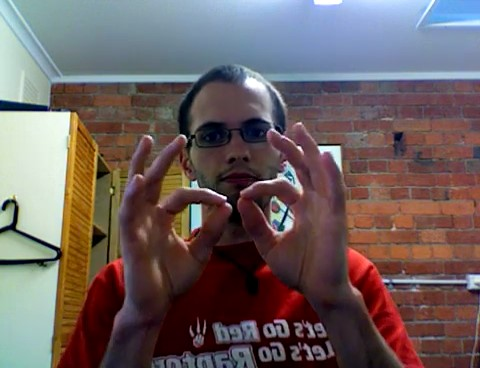B: (84, 110, 375, 330)
